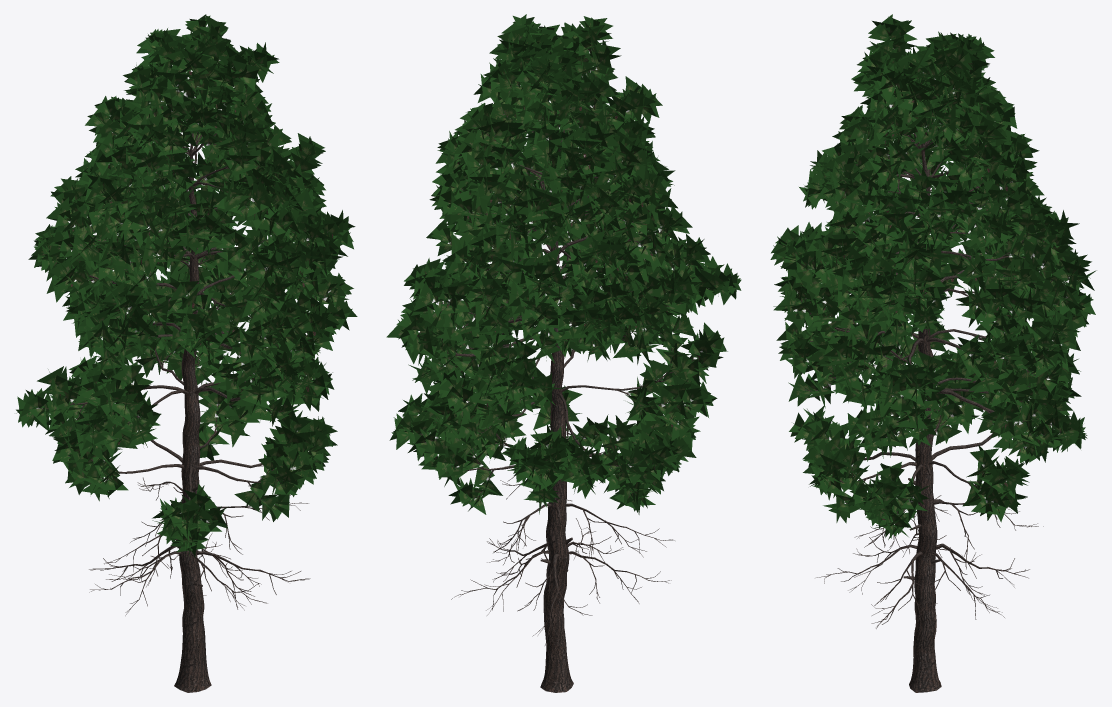
Rendered from Pinus ponderosa001_LOW.FBX.
3 views of the same model, side by side, from view 1: azimuth 30°, elevation 25°; view 2: azimuth 150°, elevation 25°; view 3: azimuth 270°, elevation 25° (orthographic).
Parts seen in each view (by area): view 1: Pinus ponderosa001_LOW; view 2: Pinus ponderosa001_LOW; view 3: Pinus ponderosa001_LOW.
Part boxes in pixels (box(x1,y1,x2,y2)): Pinus ponderosa001_LOW: box(16, 14, 357, 692); Pinus ponderosa001_LOW: box(386, 14, 741, 692); Pinus ponderosa001_LOW: box(770, 14, 1096, 692).
Bounding box in the file's own units: 6668 × 13807 × 6212.
